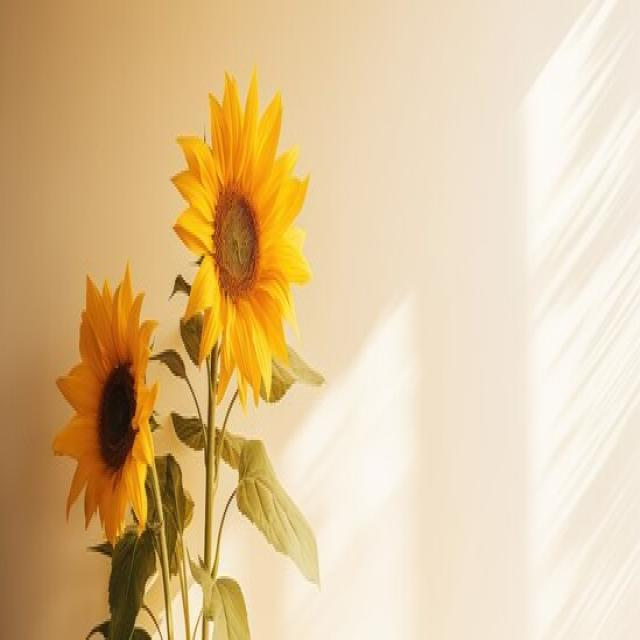sunflower: (169, 61, 311, 408), (51, 258, 160, 546)
